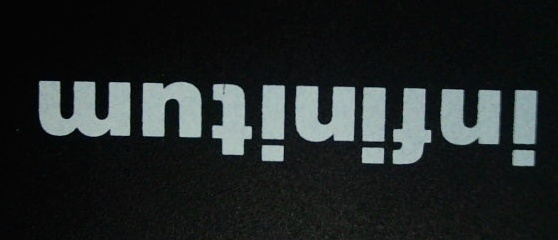BK_infinitum: (29, 74, 545, 170)
